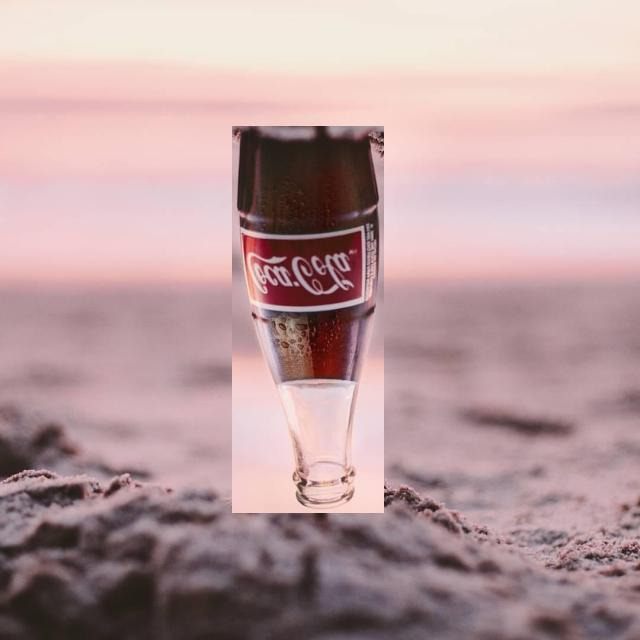coca-cola: (232, 126, 384, 513)
